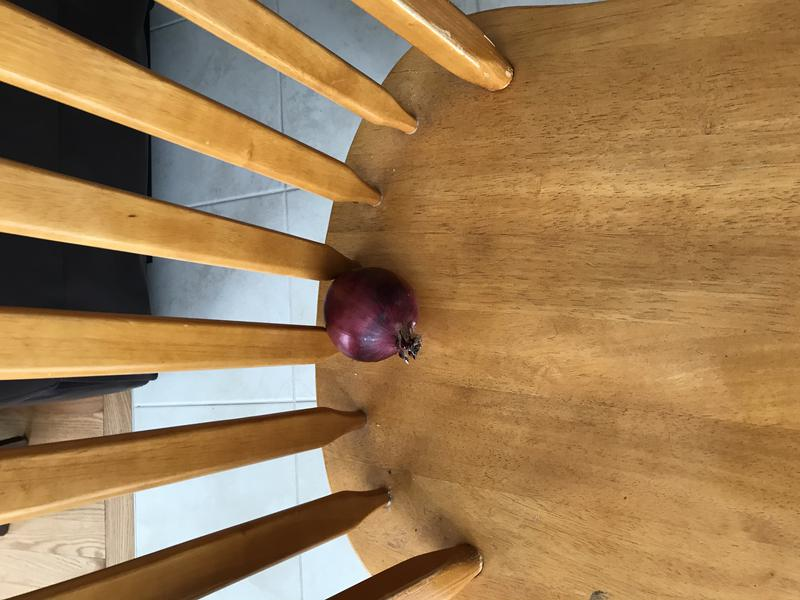purple_onion: (320, 259, 428, 374)
